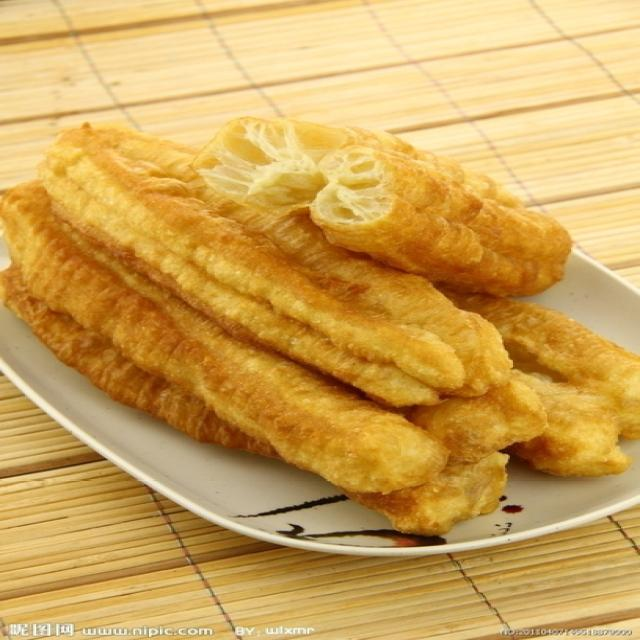炸货点心: (16, 56, 612, 610)
